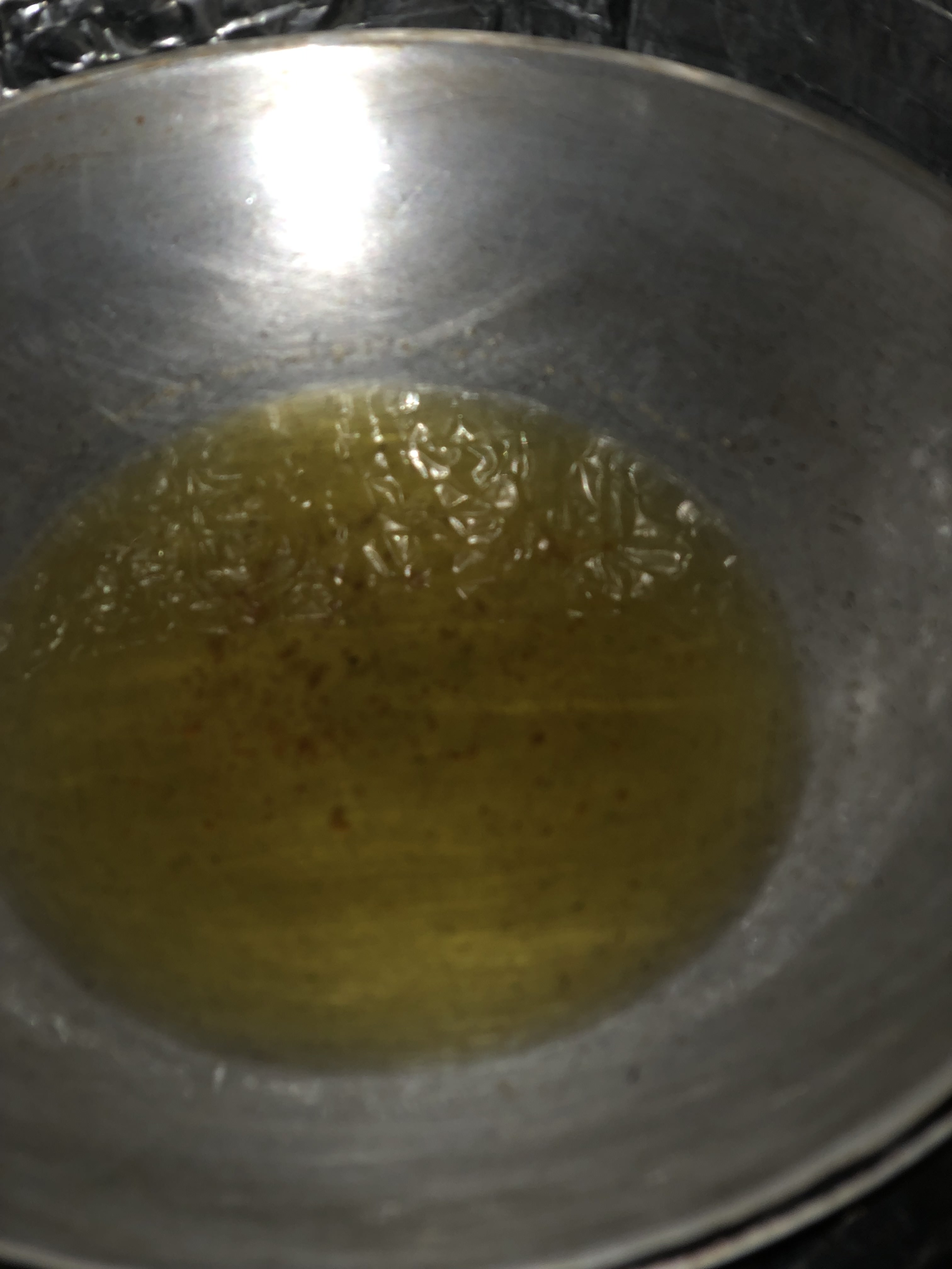reusable: (0, 387, 796, 1070)
